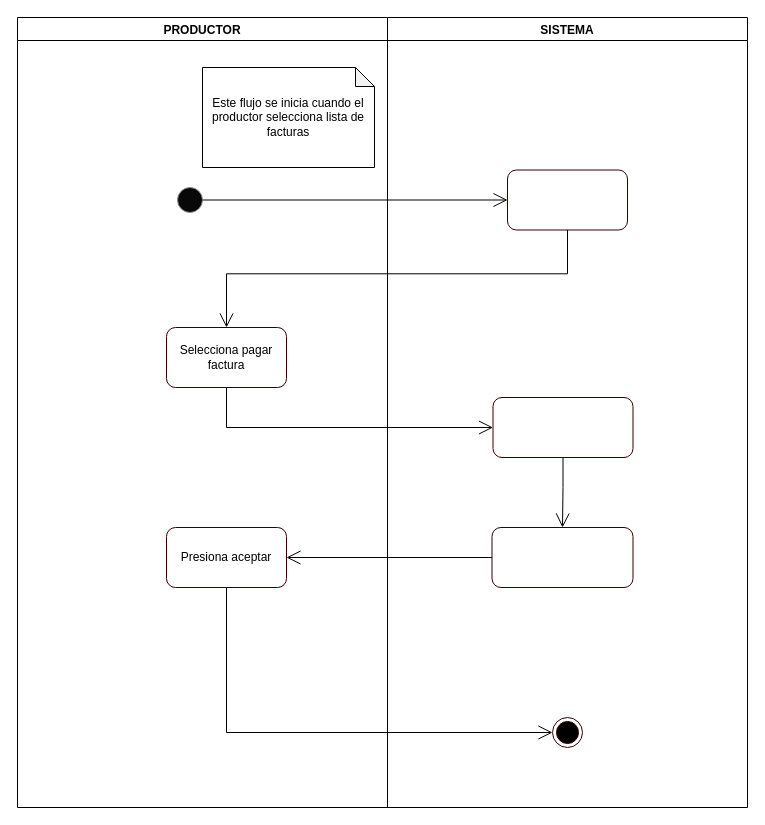
The diagram is 765 pixels wide and 825 high, and some of its shapes have lost their labels. Each missing label, with the box of its shape:
Muestra interfaz "gestión de facturas": (506, 169, 628, 230)
Muestra mensaje de pago realizado con éxito: (491, 526, 633, 588)
Registra el pago correspondiente: (492, 396, 633, 458)
